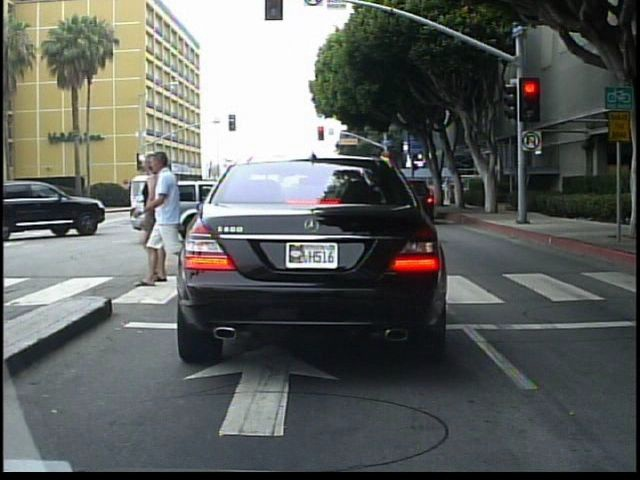person: (141, 149, 191, 292), (132, 149, 163, 290), (443, 175, 455, 209)
